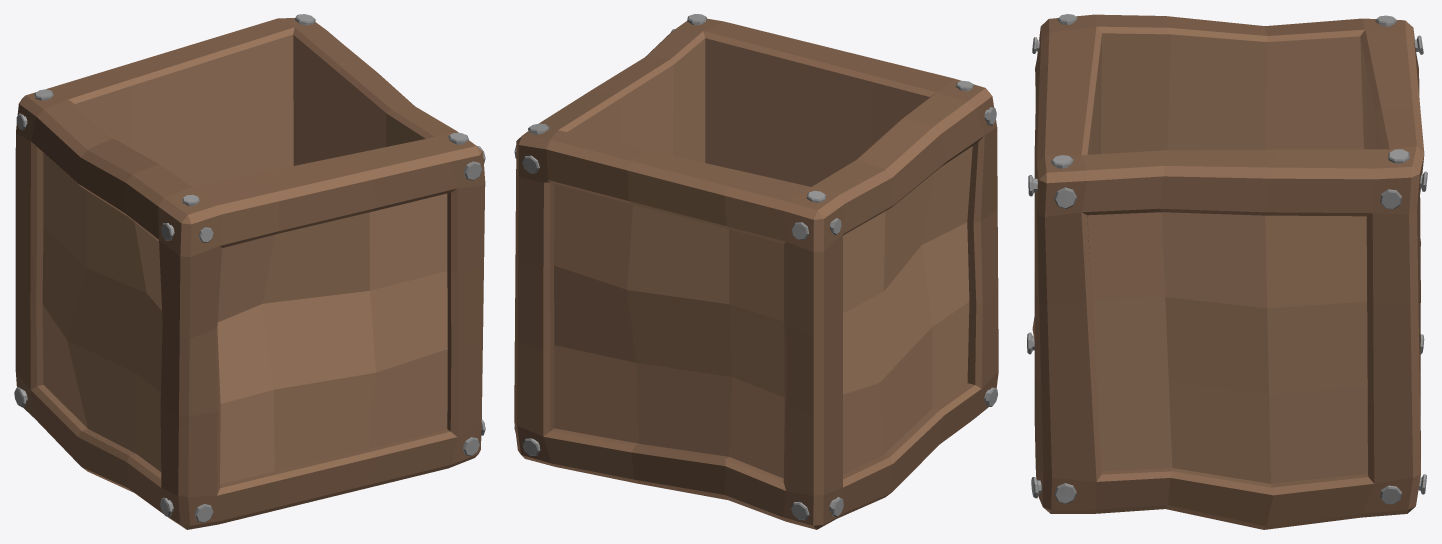
File: Crate1_Open.fbx
The picture shows the model from 3 angles, left to right: view 1: azimuth 30°, elevation 25°; view 2: azimuth 150°, elevation 25°; view 3: azimuth 270°, elevation 25°; orthographic projection. The views are drawn at different scales.
Parts seen in each view (by area): view 1: Crate_Open; view 2: Crate_Open; view 3: Crate_Open.
Boxes of the visible parts, box(x1,y1,x2,y2) form: Crate_Open: box(14, 14, 485, 529); Crate_Open: box(514, 14, 998, 529); Crate_Open: box(1027, 14, 1427, 529).
Bounding box in the file's own units: 71.1 × 72.92 × 71.11.
Materials: 1 (1 with a texture image).
